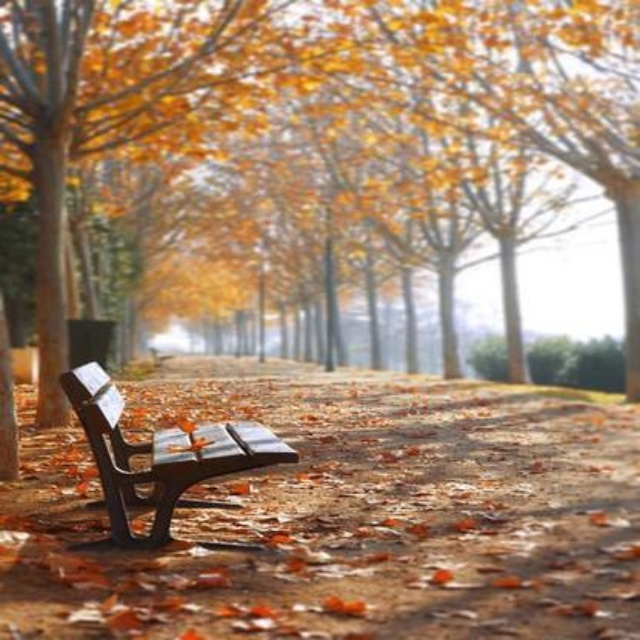obstacle: (51, 345, 303, 549)
